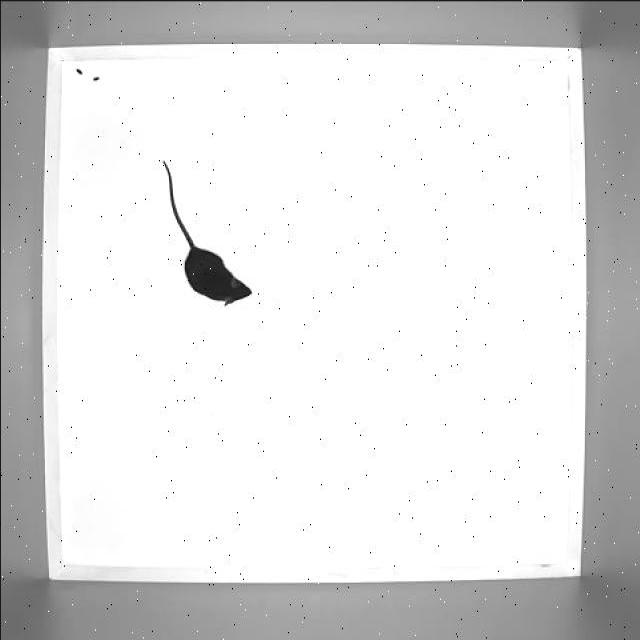rat: (150, 156, 254, 305)
